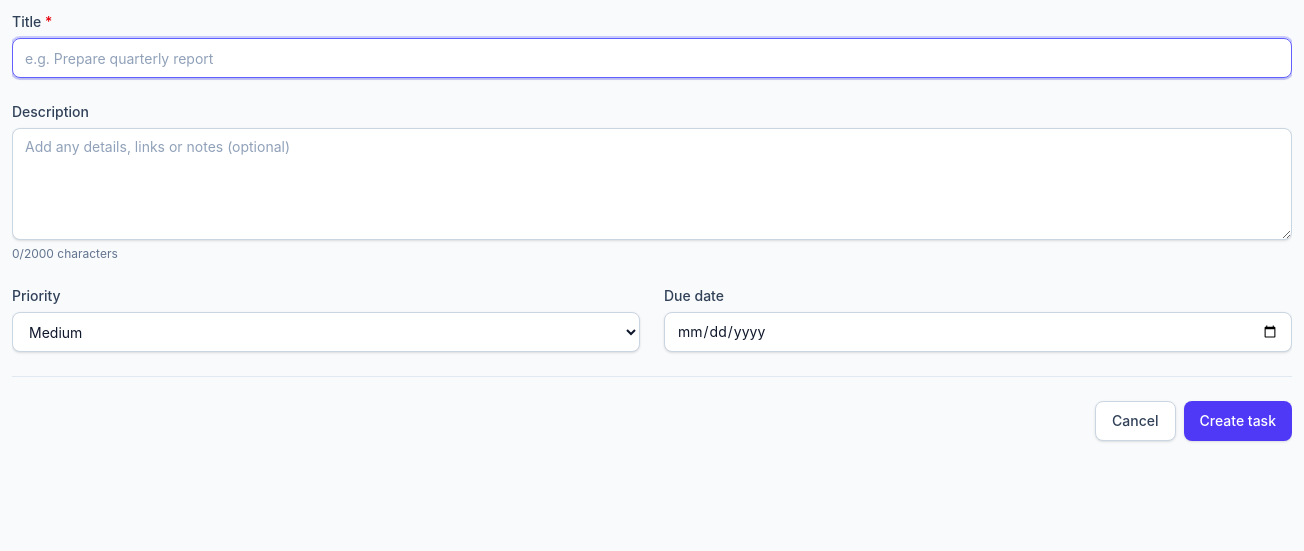
Test: TaskForm › shows server validation errors and re-enables the form
Type "Task" into the field labelled "Title *" at (652, 58), box [12,38,1292,78]
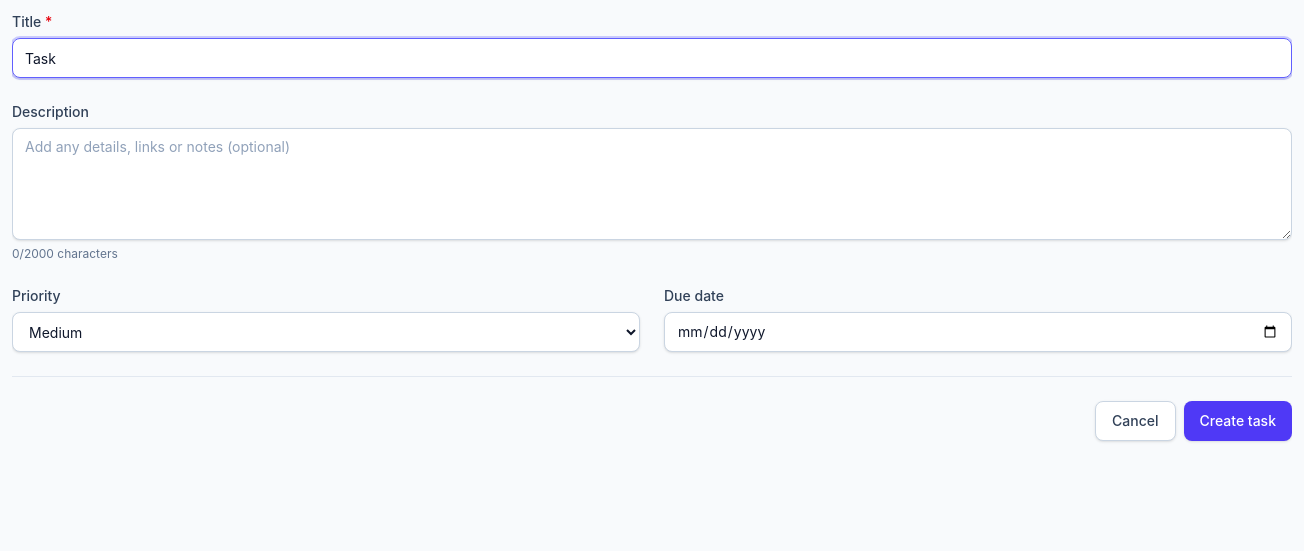
Click the button "Create task" at (1238, 421), box [1184,401,1292,441]
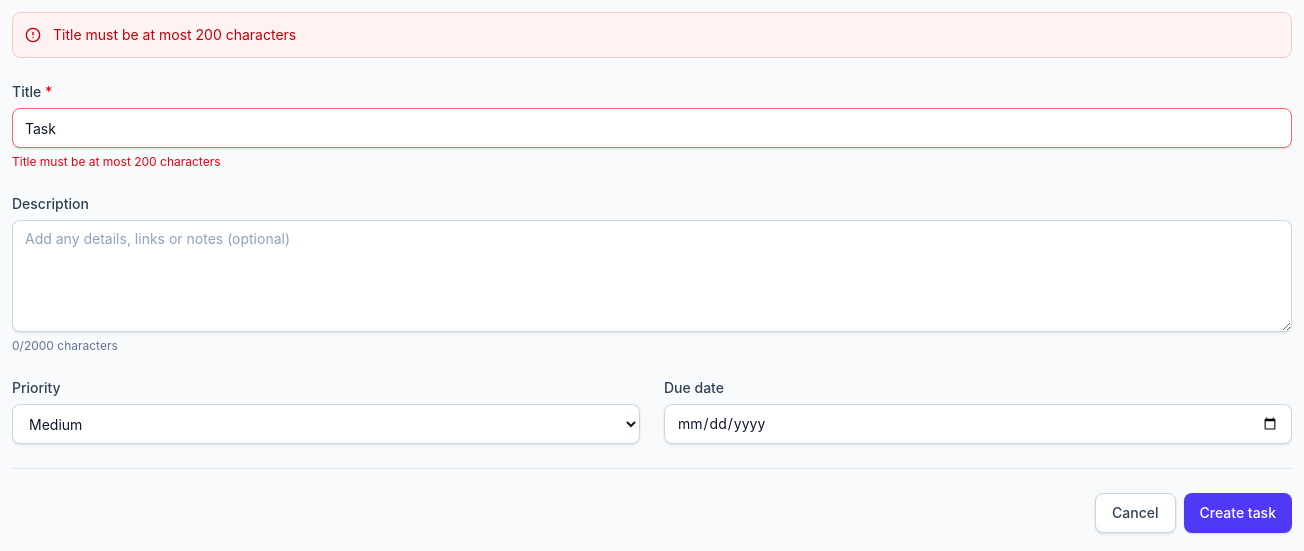
Expected: the button "Create task" is enabled, [1184,493,1292,533]
Expected: the message reads "Title must be at most 200 characters", [53,26,296,43]
